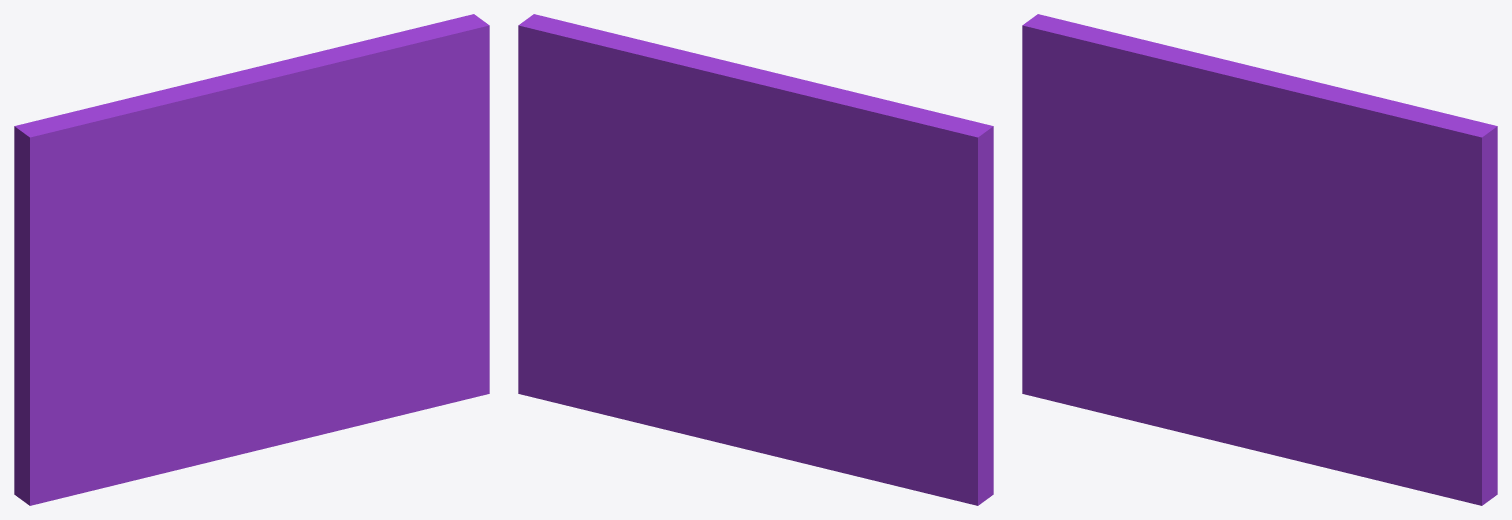
Rendered from Barrier_189_chunks.fbx.
The picture shows the model from 3 angles, left to right: view 1: azimuth 30°, elevation 25°; view 2: azimuth 150°, elevation 25°; view 3: azimuth 330°, elevation 25°; orthographic projection.
Visible parts, largest first — view 1: Barrier_189_0, Barrier_189_3, Barrier_189_1, Barrier_189_2; view 2: Barrier_189_0, Barrier_189_3, Barrier_189_1; view 3: Barrier_189_0, Barrier_189_3, Barrier_189_1, Barrier_189_2.
Part boxes in pixels (x1=…): Barrier_189_0: x1=14, y1=94, x2=236, y2=505; Barrier_189_3: x1=146, y1=14, x2=489, y2=258; Barrier_189_1: x1=154, y1=212, x2=489, y2=475; Barrier_189_2: x1=234, y1=232, x2=287, y2=313; Barrier_189_0: x1=747, y1=95, x2=993, y2=505; Barrier_189_3: x1=518, y1=14, x2=864, y2=264; Barrier_189_1: x1=518, y1=211, x2=850, y2=474; Barrier_189_0: x1=1022, y1=14, x2=1228, y2=423; Barrier_189_3: x1=1151, y1=46, x2=1497, y2=323; Barrier_189_1: x1=1147, y1=273, x2=1497, y2=505; Barrier_189_2: x1=1226, y1=220, x2=1279, y2=301.
Bounding box in the file's own units: 376 × 288 × 22.1.
